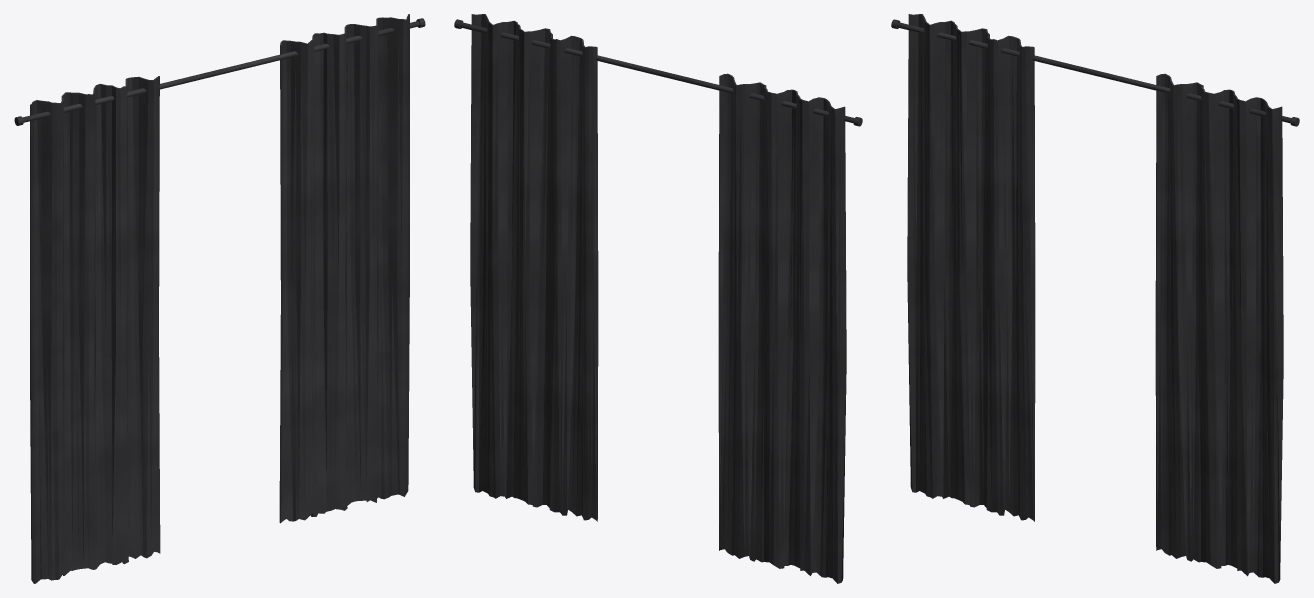
The model's file is curtains.glb.
3 renders of one model, left to right at view 1: azimuth 30°, elevation 25°; view 2: azimuth 150°, elevation 25°; view 3: azimuth 330°, elevation 25°, orthographic.
Parts seen in each view (by area): view 1: curtains; view 2: curtains; view 3: curtains.
Part boxes in pixels (x1,y1,x2,y2): curtains: [14, 14, 425, 583]; curtains: [454, 14, 862, 583]; curtains: [891, 14, 1299, 583].
Bounding box in the file's own units: 2.03 × 2.3 × 0.0898.
Materials: 1 (1 with a texture image).
